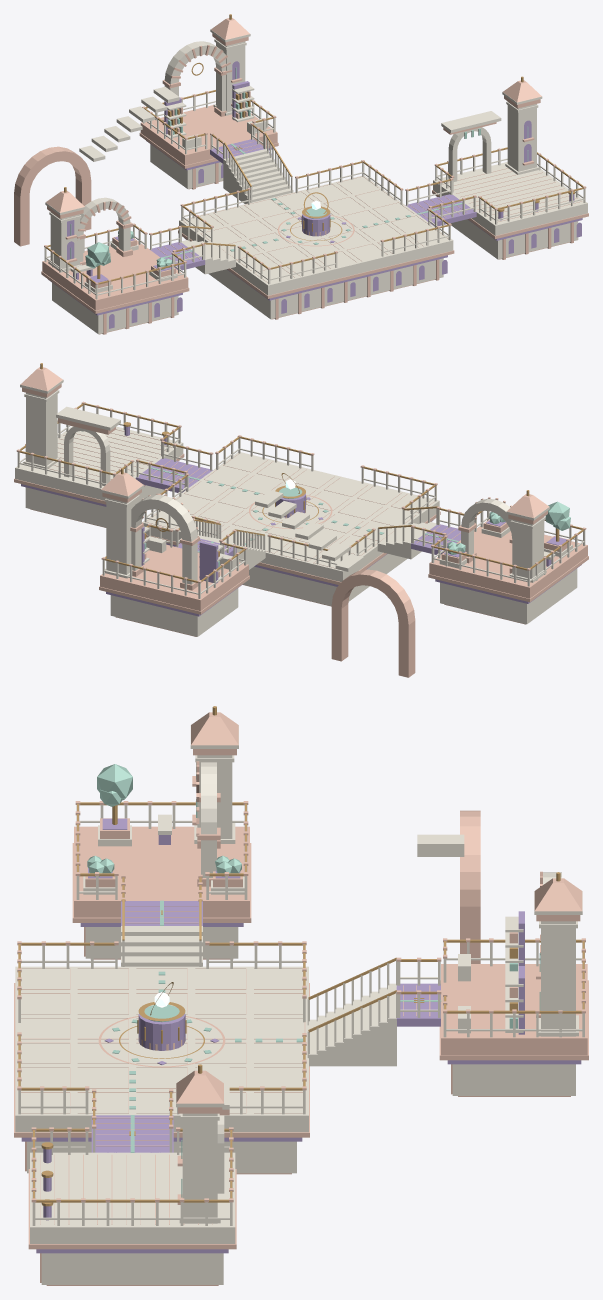
File: echo-district.glb
The picture shows the model from 3 angles, top to bottom: view 1: azimuth 30°, elevation 25°; view 2: azimuth 150°, elevation 25°; view 3: azimuth 270°, elevation 25°; orthographic projection. The views are drawn at different scales.
Visible parts, largest first — view 1: VIS_PLAZA_Ivory, VIS_DOCK_Ivory, VIS_GARDEN_Peach, VIS_GARDEN_Ivory, VIS_ARCHIVE_Peach, VIS_ARCHIVE_Ivory, VIS_PLAZA_Peach, VIS_DOCK_Peach, VIS_DECOR_Peach, VIS_DECOR_Ivory, VIS_PLAZA_Lilac, VIS_PLAZA_Brass (+12 smaller); view 2: VIS_PLAZA_Ivory, VIS_DOCK_Ivory, VIS_GARDEN_Ivory, VIS_ARCHIVE_Ivory, VIS_GARDEN_Peach, VIS_ARCHIVE_Peach, VIS_DECOR_Peach, VIS_PLAZA_Peach, VIS_DOCK_Peach, VIS_DECOR_Ivory, VIS_PLAZA_Brass, VIS_PUZZLE_BRIDGE_02_DOCK_Lilac (+10 smaller); view 3: VIS_PLAZA_Ivory, VIS_DOCK_Ivory, VIS_GARDEN_Peach, VIS_ARCHIVE_Peach, VIS_ARCHIVE_Ivory, VIS_GARDEN_Ivory, VIS_PLAZA_Peach, VIS_DOCK_Peach, VIS_PLAZA_Brass, VIS_DECOR_Peach, VIS_PUZZLE_BRIDGE_02_DOCK_Lilac, VIS_PLAZA_Lilac (+12 smaller).
Part boxes in pixels (x1,y1,x2,y2): VIS_PLAZA_Ivory: (80,41,490,319); VIS_DOCK_Ivory: (433,92,587,259); VIS_GARDEN_Peach: (41,190,189,334); VIS_GARDEN_Ivory: (44,202,220,334); VIS_ARCHIVE_Peach: (139,18,278,189); VIS_ARCHIVE_Ivory: (143,29,275,188); VIS_PLAZA_Peach: (178,160,454,319); VIS_DOCK_Peach: (432,80,588,259); VIS_DECOR_Peach: (14,146,91,246); VIS_DECOR_Ivory: (79,86,179,161); VIS_PLAZA_Lilac: (184,210,447,313); VIS_PLAZA_Brass: (181,132,448,269); VIS_PLAZA_Ivory: (64,426,512,605); VIS_DOCK_Ivory: (15,379,183,527); VIS_GARDEN_Ivory: (394,506,585,624); VIS_ARCHIVE_Ivory: (100,485,246,636); VIS_GARDEN_Peach: (428,494,588,624); VIS_ARCHIVE_Peach: (99,472,249,636); VIS_DECOR_Peach: (331,569,415,677); VIS_PLAZA_Peach: (146,435,440,606); VIS_DOCK_Peach: (14,367,184,527); VIS_DECOR_Ivory: (255,490,363,571); VIS_PLAZA_Brass: (158,436,437,550); VIS_PUZZLE_BRIDGE_02_DOCK_Lilac: (136,458,212,492); VIS_PLAZA_Ivory: (15,762,561,1173); VIS_DOCK_Ivory: (30,1064,235,1284); VIS_GARDEN_Peach: (72,712,251,959); VIS_ARCHIVE_Peach: (439,871,588,1096); VIS_ARCHIVE_Ivory: (443,891,584,1095); VIS_GARDEN_Ivory: (76,725,247,958); VIS_PLAZA_Peach: (14,941,309,1174); VIS_DOCK_Peach: (28,1070,236,1285); VIS_PLAZA_Brass: (18,899,396,1090); VIS_DECOR_Peach: (460,810,480,963); VIS_PUZZLE_BRIDGE_02_DOCK_Lilac: (91,1115,173,1152); VIS_PLAZA_Lilac: (21,1007,302,1141).
Bounding box in the file's own units: 31.08 × 9.83 × 19.58.
